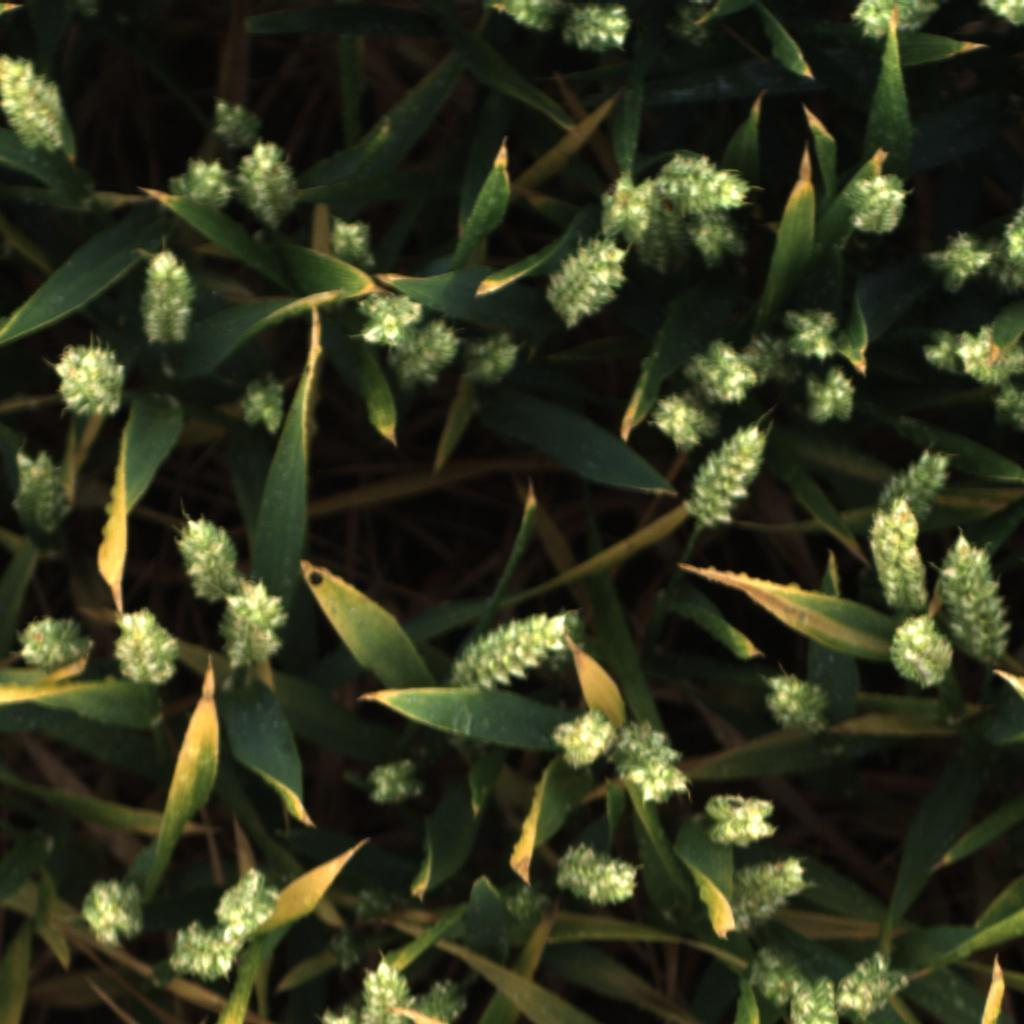0-0: (445, 606, 588, 699), (683, 417, 769, 539), (937, 526, 1010, 668), (859, 500, 939, 624), (543, 231, 631, 332), (613, 716, 701, 816), (40, 333, 131, 422), (0, 49, 75, 156), (210, 574, 292, 670), (135, 240, 200, 355), (6, 441, 75, 546), (723, 852, 810, 935), (232, 138, 307, 233), (549, 837, 643, 912), (173, 511, 241, 609), (110, 601, 184, 691), (657, 149, 768, 208), (756, 660, 836, 741), (882, 610, 962, 691), (202, 84, 288, 157), (212, 867, 288, 949), (380, 316, 462, 392), (679, 334, 755, 412), (840, 166, 912, 248), (878, 446, 956, 520), (834, 947, 911, 1021), (702, 791, 788, 856), (81, 871, 150, 951), (643, 390, 723, 459), (542, 703, 618, 775), (676, 205, 753, 276), (798, 359, 868, 436), (919, 229, 997, 298), (166, 918, 245, 986), (348, 286, 424, 355), (12, 609, 95, 672), (352, 954, 419, 1024), (165, 153, 237, 218), (594, 175, 657, 244), (631, 200, 686, 279), (231, 369, 292, 438), (845, 0, 945, 42), (560, 3, 634, 59), (745, 945, 809, 1009), (738, 328, 805, 389), (778, 301, 838, 369), (462, 326, 528, 387), (321, 209, 382, 275), (951, 325, 1012, 389), (775, 965, 840, 1024), (989, 200, 1024, 299), (365, 756, 428, 810), (410, 974, 474, 1024), (348, 881, 421, 924), (497, 879, 554, 929), (481, 0, 563, 34), (663, 0, 719, 48), (982, 380, 1024, 440), (324, 923, 371, 976), (917, 326, 963, 377), (977, 1, 1023, 30), (316, 1001, 362, 1024), (996, 342, 1024, 375)
